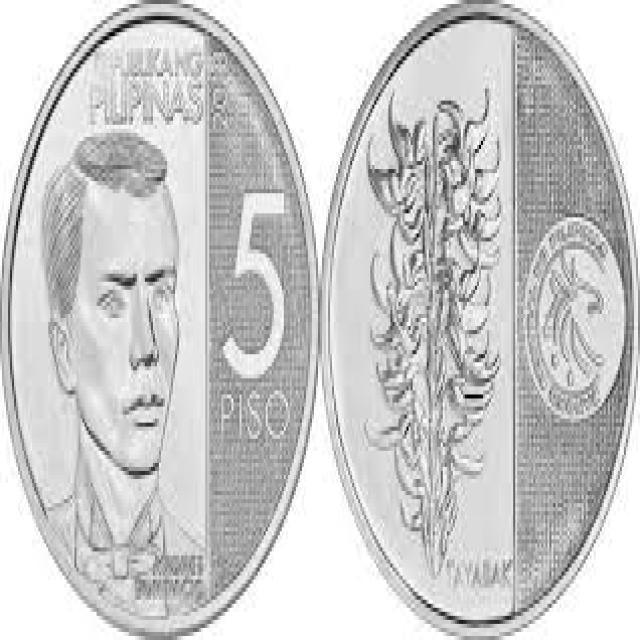5 peso: (0, 0, 321, 640), (320, 0, 638, 640)
